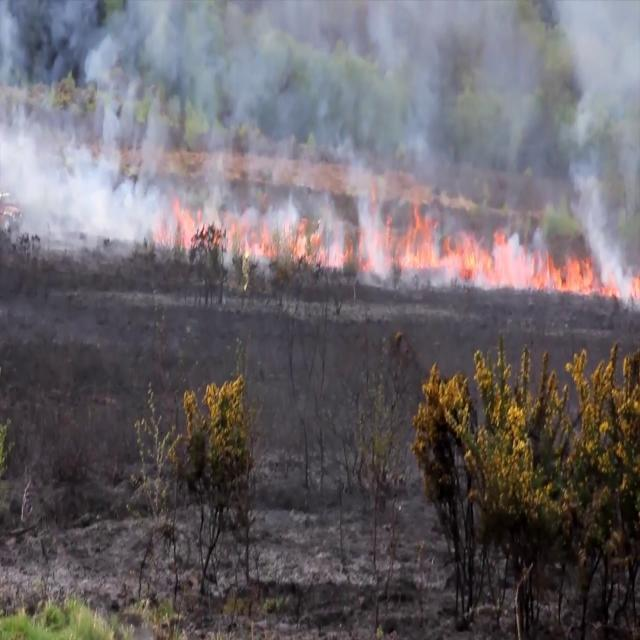Fire: (152, 216, 640, 300)
Smoke: (0, 1, 640, 200), (13, 181, 160, 250)
